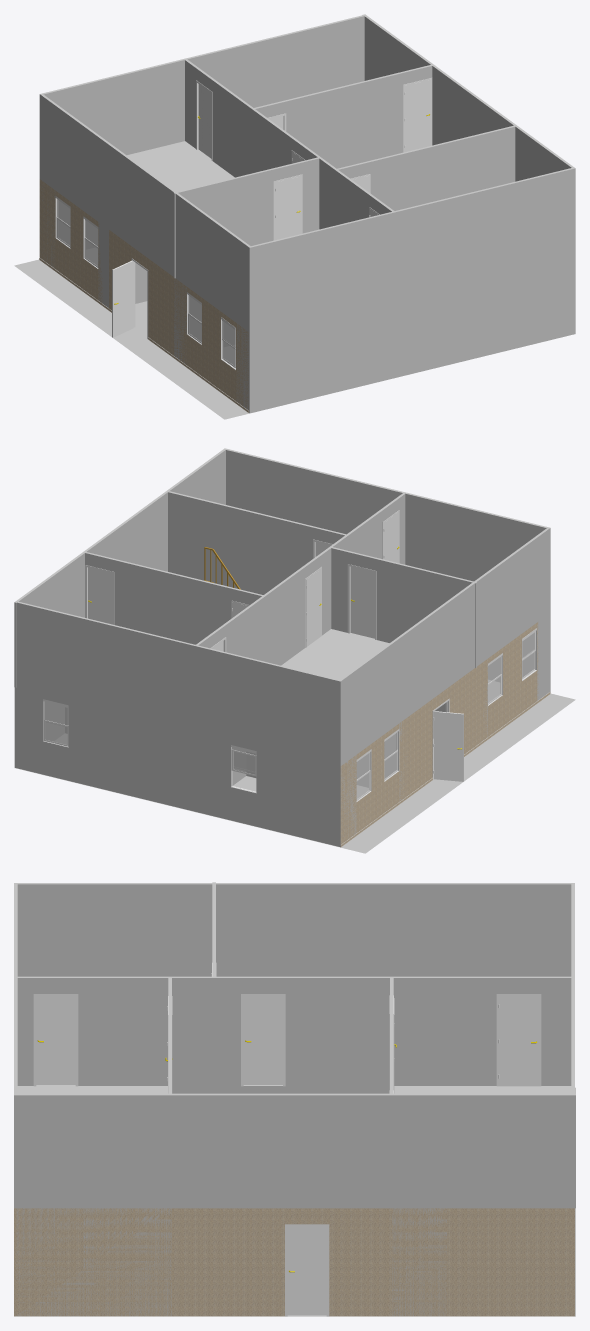
The model's file is testmosque.gltf.
The picture shows the model from 3 angles, top to bottom: view 1: azimuth 30°, elevation 25°; view 2: azimuth 150°, elevation 25°; view 3: azimuth 270°, elevation 25°; orthographic projection. The views are drawn at different scales.
Parts seen in each view (by area): view 1: wall_20_121, wall_4_24, wall_23_138, wall_19_115, wall_2_13, wall_29_174, wall_31_186, wall_21_126, wall_24_145, wall_25_150, ground_1, wall_27_162 (+11 smaller); view 2: wall_1_5, wall_23_139, wall_20_120, wall_28_168, wall_19_115, wall_2_13, wall_31_187, wall_27_162, wall_29_175, wall_21_126, wall_25_151, wall_24_145 (+15 smaller); view 3: wall_21_127, wall_3_18, wall_19_114, wall_24_144, wall_30_180, wall_27_163, wall_17_103, sweethome3d_opening_on_hinge_1_door_425, sweethome3d_opening_on_hinge_1_door_262, sweethome3d_opening_on_hinge_1_door_407, sweethome3d_opening_on_hinge_1_door_452, wall_14_85 (+13 smaller).
Boxes of the visible parts, x1,y1,x2,y2 form: wall_20_121: (249,168,575,332); wall_4_24: (249,253,575,413); wall_23_138: (43,16,364,155); wall_19_115: (74,122,249,332); wall_2_13: (39,179,248,410); wall_29_174: (255,66,432,168); wall_31_186: (338,127,515,210); wall_21_126: (364,16,571,181); wall_24_145: (185,60,317,177); wall_25_150: (174,158,319,278); ground_1: (14,248,249,419); wall_27_162: (39,94,119,234); wall_1_5: (14,687,340,847); wall_23_139: (17,602,339,765); wall_20_120: (226,450,546,581); wall_28_168: (195,646,340,766); wall_19_115: (346,528,550,730); wall_2_13: (340,622,538,844); wall_31_187: (168,492,344,594); wall_27_162: (340,599,453,765); wall_29_175: (85,553,261,644); wall_21_126: (15,450,225,687); wall_25_151: (331,548,476,667); wall_24_145: (198,548,331,665); wall_21_127: (14,1095,575,1208); wall_3_18: (14,1208,574,1316); wall_19_114: (17,884,571,976); wall_24_144: (214,978,571,1091); wall_30_180: (17,978,213,1091); wall_27_163: (216,884,569,976); wall_17_103: (16,1208,171,1316); sweethome3d_opening_on_hinge_1_door_425: (498,996,538,1086); sweethome3d_opening_on_hinge_1_door_262: (287,1226,326,1315); sweethome3d_opening_on_hinge_1_door_407: (243,996,282,1084); sweethome3d_opening_on_hinge_1_door_452: (36,996,75,1084); wall_14_85: (392,1208,446,1316).
Size of the model in its own units: 1109 by 500 by 1151.
Materials: 9 (2 with a texture image).
